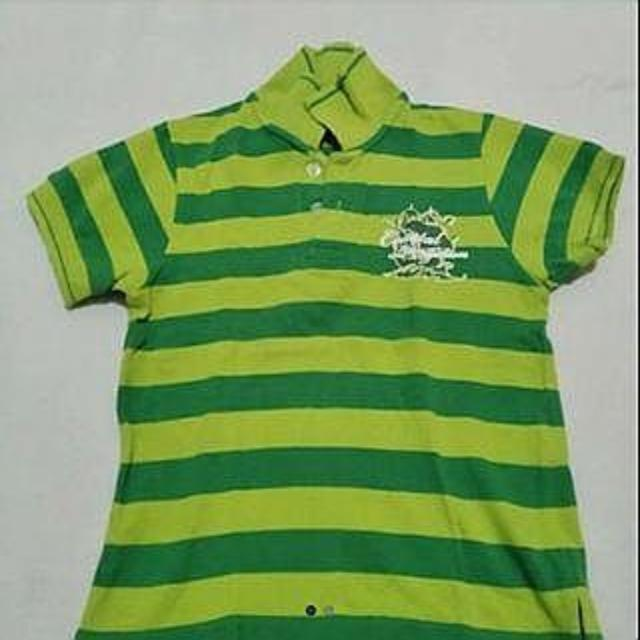T_SHIRT: (19, 30, 640, 640)
